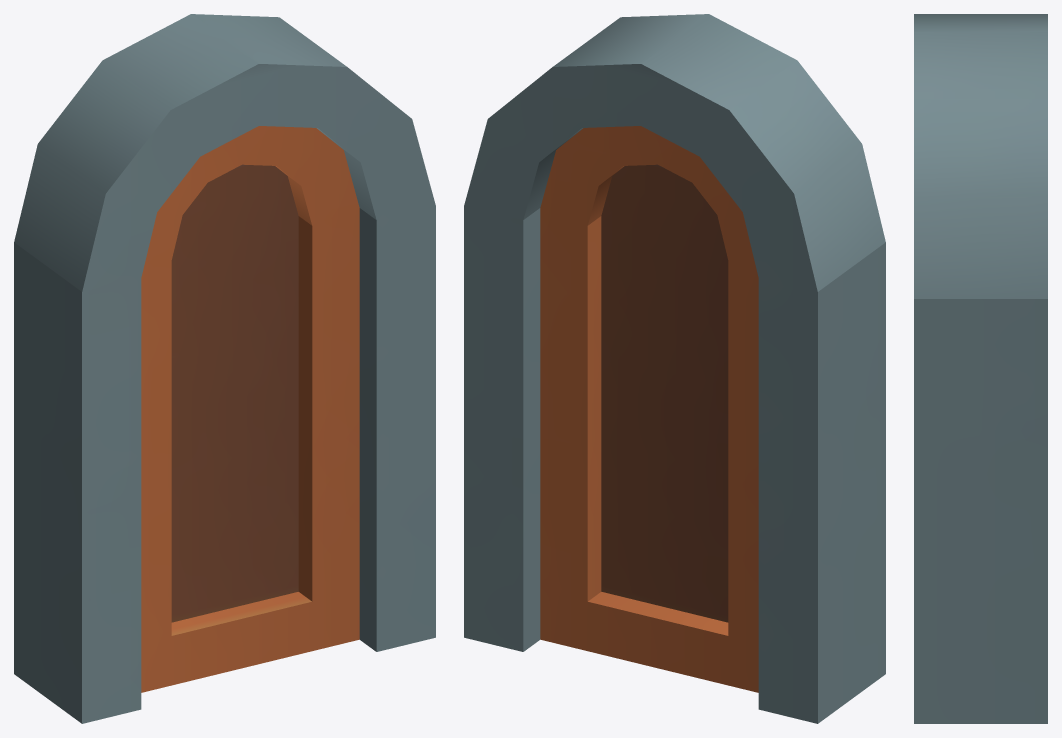
Rendered from door.glb.
The picture shows the model from 3 angles, left to right: view 1: azimuth 30°, elevation 25°; view 2: azimuth 150°, elevation 25°; view 3: azimuth 270°, elevation 25°; orthographic projection.
Parts seen in each view (by area): view 1: door, doorClosed; view 2: door, doorClosed; view 3: door.
Part boxes in pixels (x1,y1,x2,y2): door: (14, 14, 435, 723); doorClosed: (141, 126, 359, 692); door: (464, 14, 885, 723); doorClosed: (540, 126, 758, 692); door: (914, 14, 1047, 723).
Bounding box in the file's own units: 0.6 × 1 × 0.2.
Materials: 1 (1 with a texture image).
